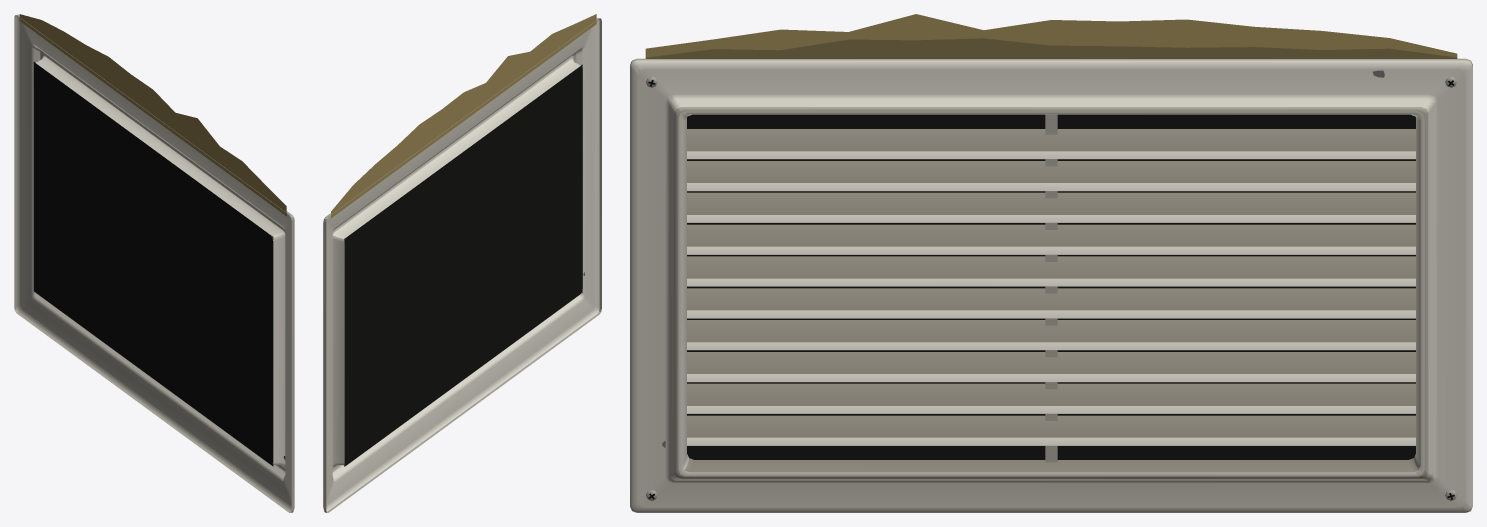
File: vent_grille.glb
The picture shows the model from 3 angles, left to right: view 1: azimuth 30°, elevation 25°; view 2: azimuth 150°, elevation 25°; view 3: azimuth 270°, elevation 25°; orthographic projection. The views are drawn at different scales.
Parts seen in each view (by area): view 1: lueftungsgitter; view 2: lueftungsgitter; view 3: lueftungsgitter.
Boxes of the visible parts, x1=… form: lueftungsgitter: x1=14, y1=14, x2=294, y2=512; lueftungsgitter: x1=323, y1=14, x2=601, y2=512; lueftungsgitter: x1=630, y1=14, x2=1472, y2=512.
Size of the model in its own units: 0.0136 by 0.3516 by 0.54.
